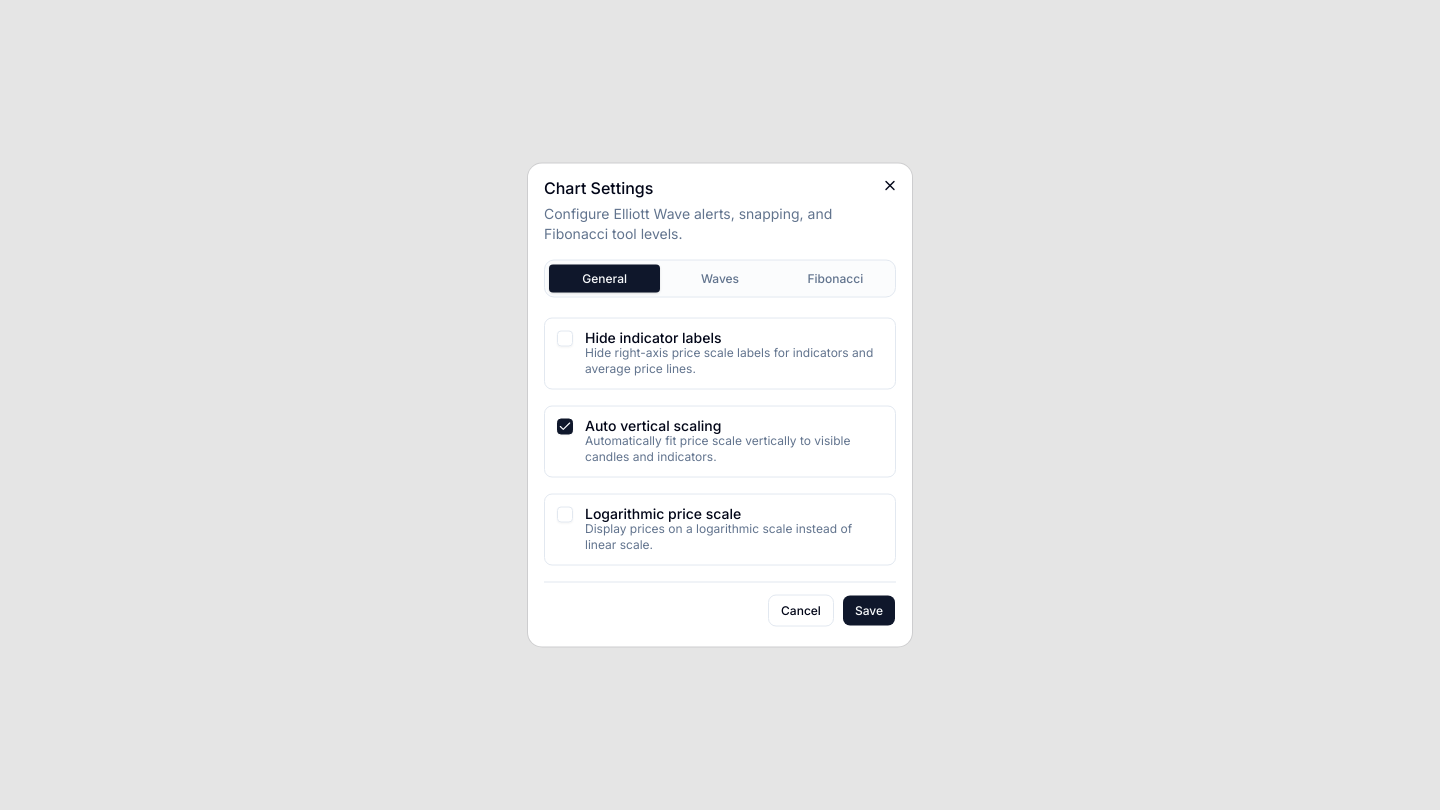
it: ChartSettingsModal Component › Rendering & Dialog Visibility › switches between General, Waves, and Fibonacci sections on tab click
This screenshot has width=1440, height=810.
expect the panel with test id "general-settings-panel" is shown: met, box [544,314,896,630]
Switch to Waves
Click the tab "Waves".
click(720, 278)  # box [664,264,776,292]
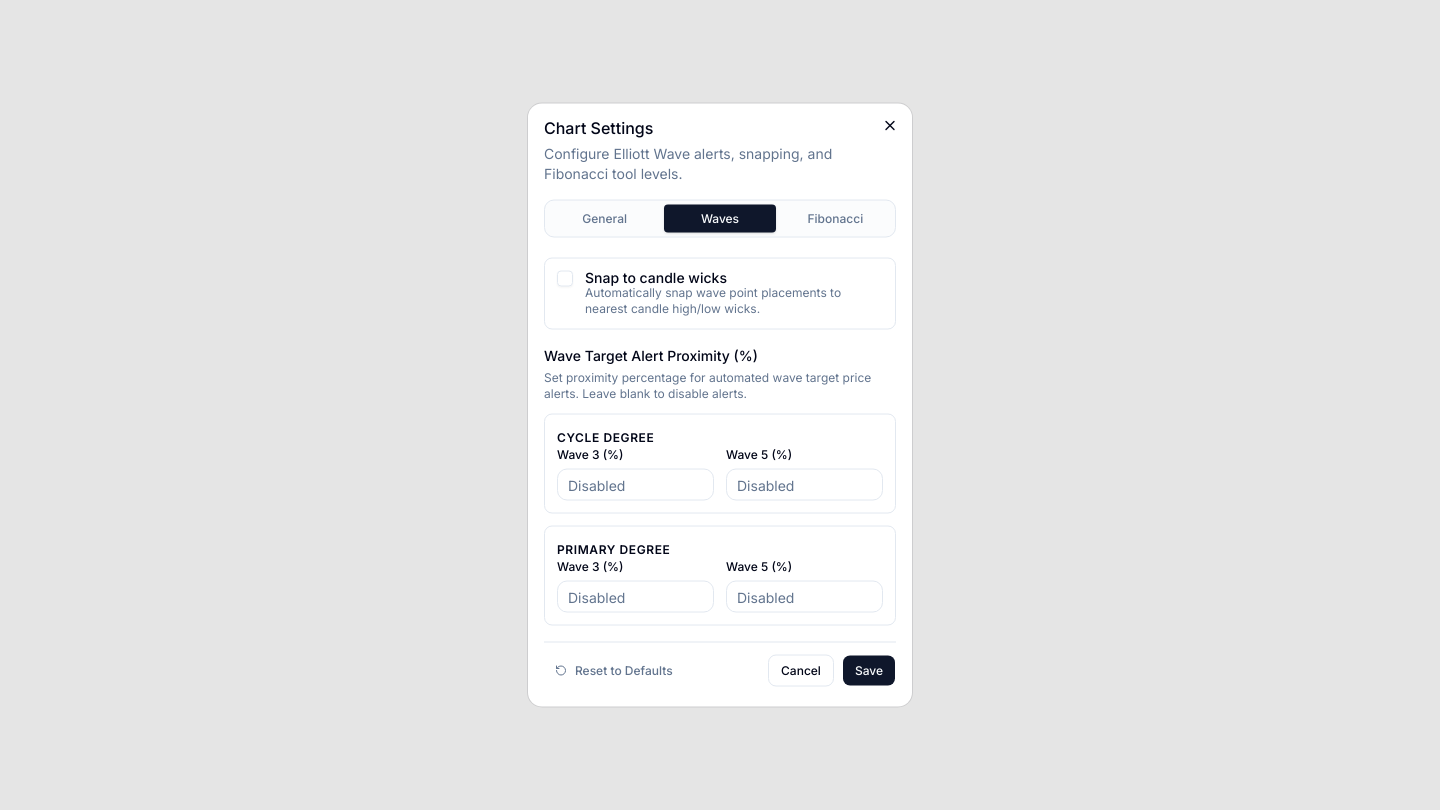
expect the panel with test id "waves-settings-panel" is shown: met, box [544,254,896,690]
expect the panel with test id "general-settings-panel" is gone: met
Switch to Fibonacci
Click the tab "Fibonacci".
click(835, 218)  # box [780,204,891,232]
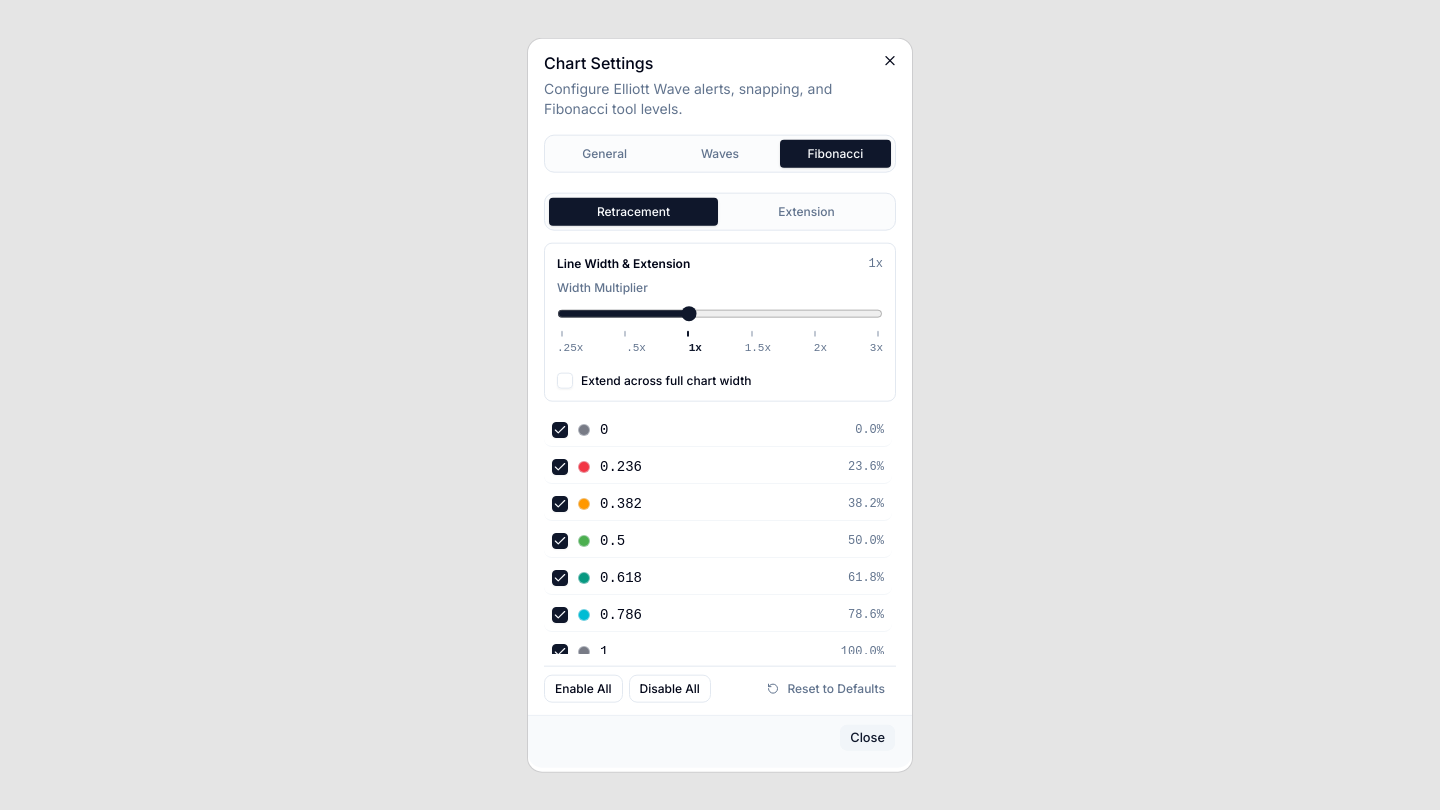
expect the panel with test id "fibonacci-settings-panel" is shown: met, box [544,189,896,755]
expect the panel with test id "waves-settings-panel" is gone: met
Switch back to General
Click the tab "General".
click(605, 154)  # box [549,140,660,168]
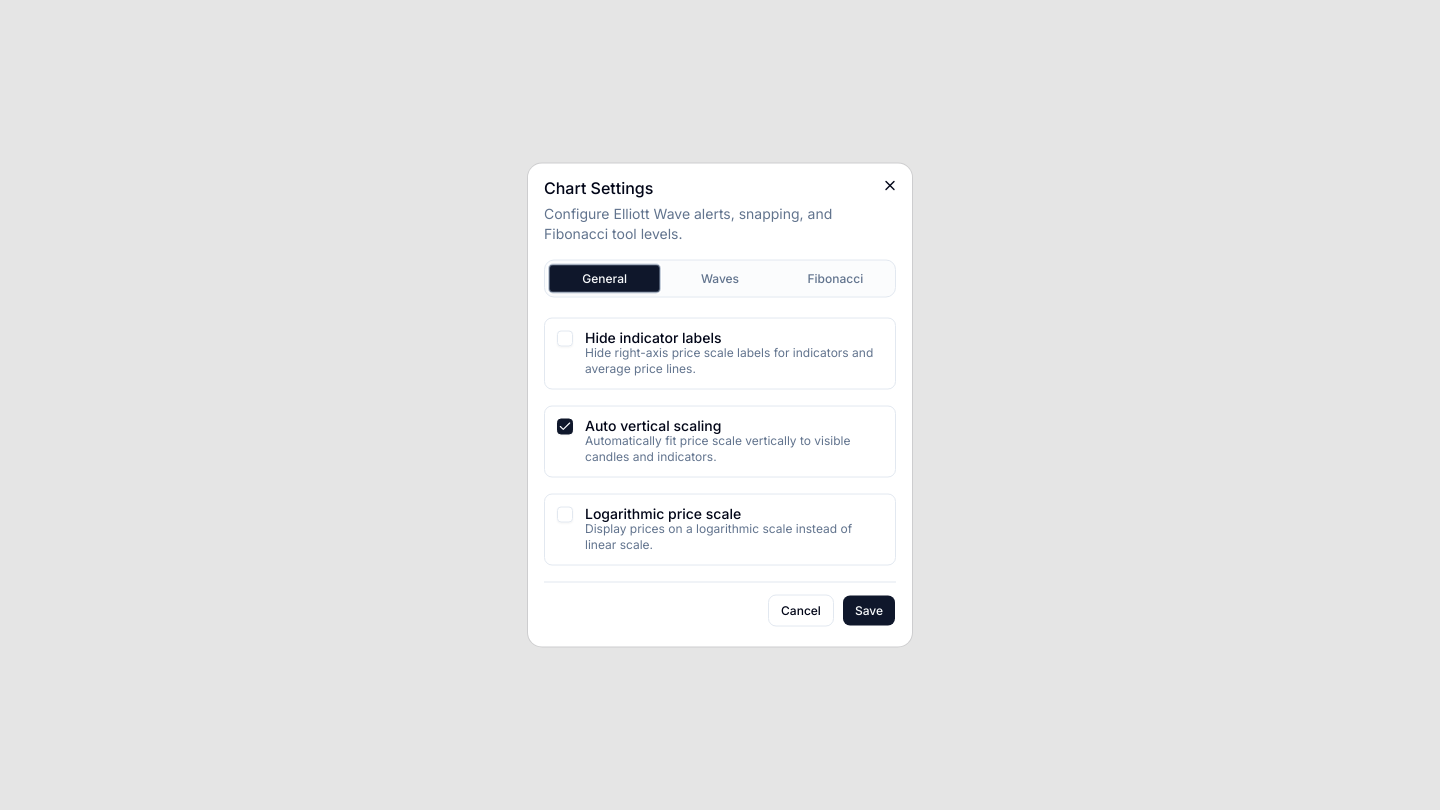
expect the panel with test id "general-settings-panel" is shown: met, box [544,314,896,630]
